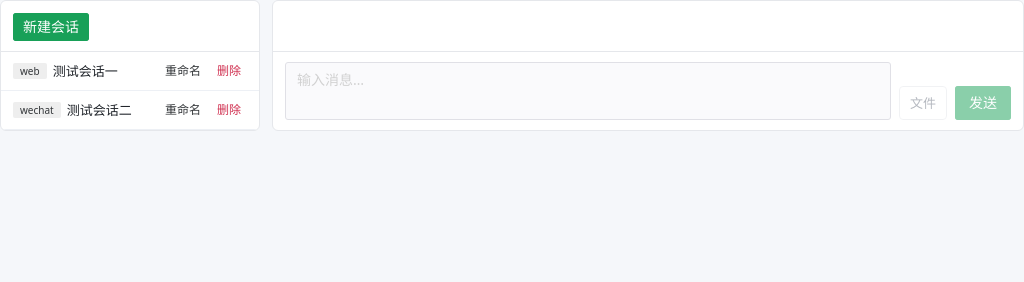
Scenario: AppConversationsTab › 选中会话后加载并显示消息历史
Note: 点击第一条会话。
Click the element with test id "session-sess-1" at [130, 72], box [1, 52, 259, 91]
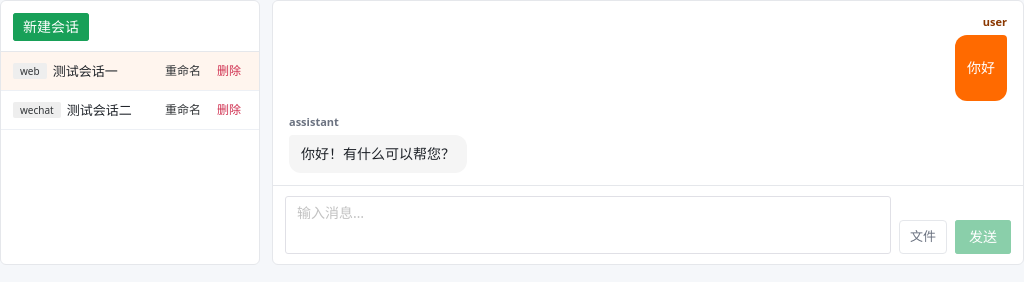
Expected: the text "你好" is shown, [967, 57, 995, 79]
Expected: the text "你好！有什么可以帮您？" is shown, [301, 143, 455, 165]
